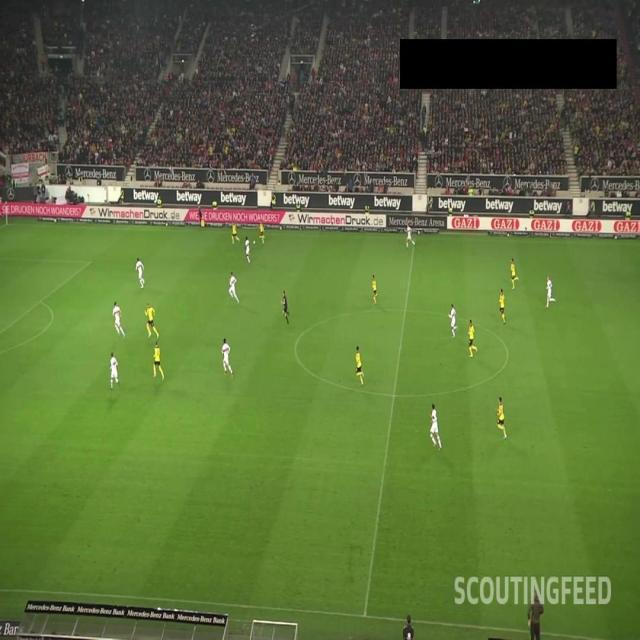ball: (253, 240, 256, 246)
player: (429, 403, 442, 451), (221, 338, 234, 379), (145, 302, 159, 340), (496, 396, 508, 440), (113, 301, 126, 339), (153, 341, 165, 382), (468, 319, 479, 358), (110, 351, 121, 390), (355, 345, 365, 386), (229, 271, 240, 304), (448, 304, 458, 338), (135, 257, 145, 289), (498, 287, 506, 325), (546, 276, 554, 309), (406, 223, 416, 249), (510, 258, 518, 290), (231, 220, 240, 245), (372, 274, 378, 306), (245, 236, 251, 264), (259, 222, 265, 244)
referee: (281, 291, 290, 325), (198, 204, 205, 228)
